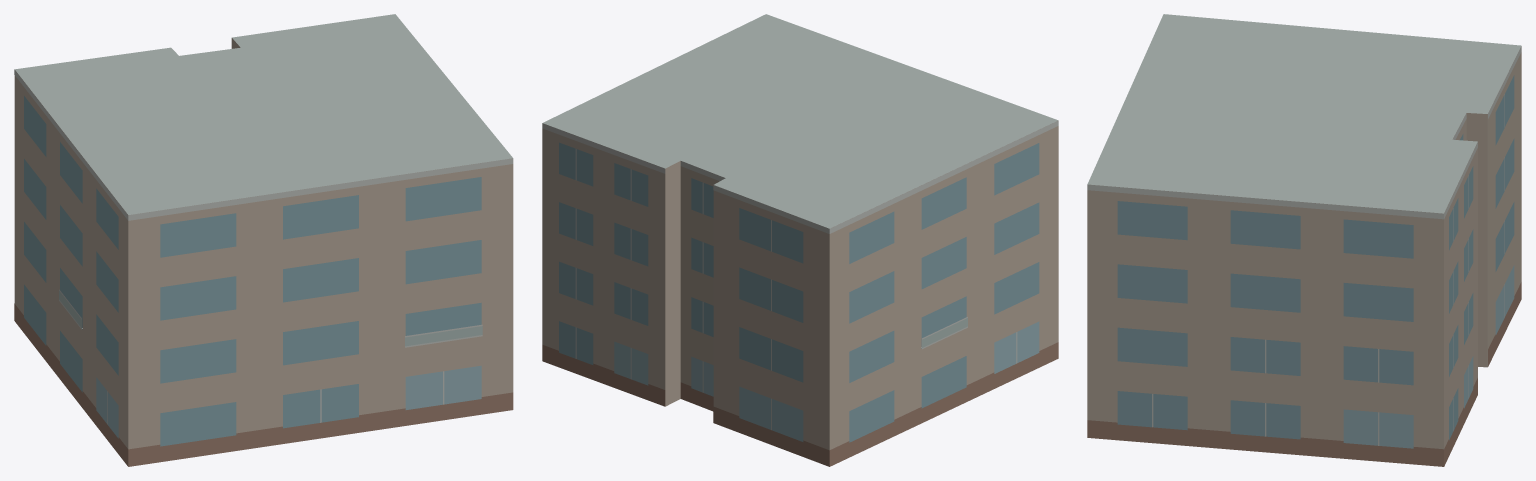
Rendered from survey-upis-32676889.glb.
3 views of the same model, side by side, from view 1: azimuth 30°, elevation 25°; view 2: azimuth 150°, elevation 25°; view 3: azimuth 270°, elevation 25° (orthographic). The views are drawn at different scales.
Parts seen in each view (by area): view 1: survey-upis-32676889.tmp; view 2: survey-upis-32676889.tmp; view 3: survey-upis-32676889.tmp.
Boxes of the visible parts, box(x1,y1,x2,y2) form: survey-upis-32676889.tmp: box(14, 14, 513, 466); survey-upis-32676889.tmp: box(542, 14, 1058, 466); survey-upis-32676889.tmp: box(1087, 14, 1521, 466).
Size of the model in its own units: 18.26 by 10.8 by 16.79.
